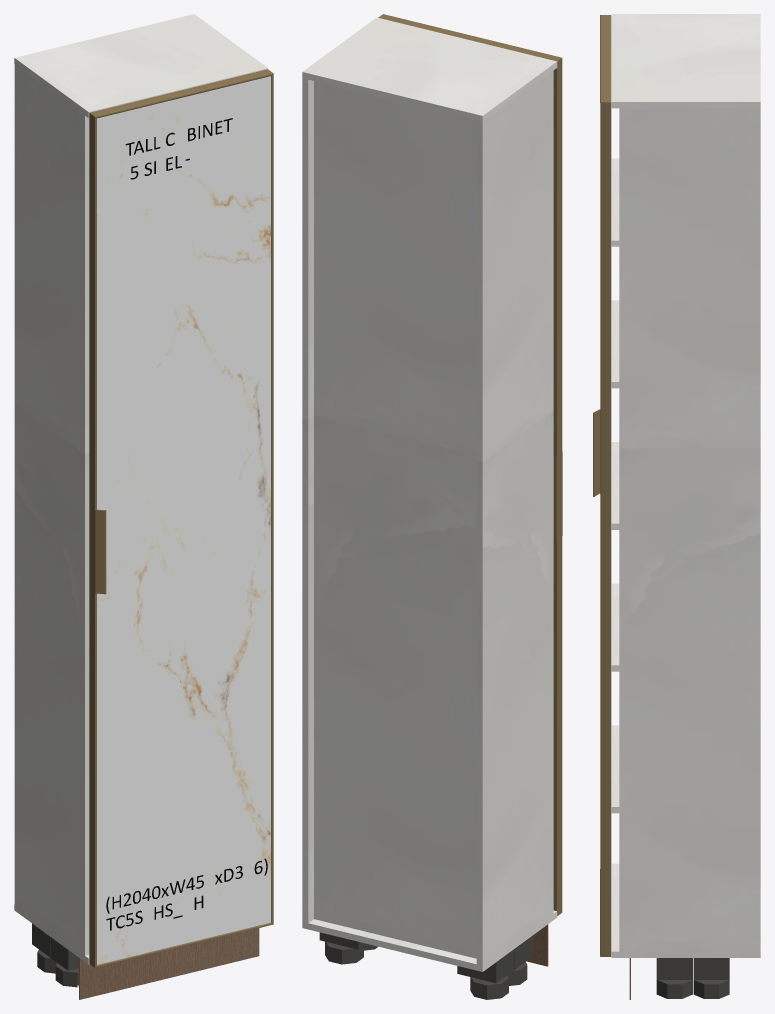
The model's file is TCL-SH-TTS-ST-5SX-RHS-XXX-450-2040-336-15.glb.
3 views of the same model, side by side, from view 1: azimuth 30°, elevation 25°; view 2: azimuth 150°, elevation 25°; view 3: azimuth 270°, elevation 25° (orthographic).
Visible parts, largest first — view 1: Object_node_15, TP_node_0, TP, Extrusion_node_1, Object_node_17, Extrusion_node, Extrusion, ExtrSplGeo, 2D text_node_0, 2D text; view 2: TP_node_7, TP_node_0, TP, TP_node_1, Extrusion_node_1, TP_node, Extrusion, Plate, Foot, Foot_node, Object_node_17; view 3: TP_node_1, TP, Extrusion_node, TP_node, Extrusion, Plate_node, Plate_node_1, TP_node_2, TP_node_3, TP_node_5, TP_node_6, TP_node_4 (+3 smaller).
Part boxes in pixels (x1,y1,x2,y2): Object_node_15: [97, 76, 270, 964]; TP_node_0: [14, 64, 89, 955]; TP: [14, 14, 268, 118]; Extrusion_node_1: [89, 113, 96, 967]; Object_node_17: [79, 928, 259, 999]; Extrusion_node: [271, 73, 273, 924]; Extrusion: [90, 69, 273, 118]; ExtrSplGeo: [95, 509, 106, 594]; 2D text_node_0: [106, 858, 267, 913]; 2D text: [125, 118, 232, 179]; TP_node_7: [314, 81, 476, 958]; TP_node_0: [476, 70, 553, 965]; TP: [302, 17, 557, 122]; TP_node_1: [302, 78, 313, 922]; Extrusion_node_1: [553, 58, 562, 915]; TP_node: [302, 910, 557, 971]; Extrusion: [378, 14, 561, 61]; Plate: [457, 949, 514, 983]; Foot: [470, 975, 508, 999]; Foot_node: [325, 941, 363, 964]; Object_node_17: [526, 924, 548, 966]; TP_node_1: [619, 108, 760, 951]; TP: [611, 14, 760, 108]; Extrusion_node: [600, 102, 611, 956]; TP_node: [611, 863, 760, 957]; Extrusion: [600, 15, 611, 102]; Plate_node: [693, 958, 729, 979]; Plate_node_1: [656, 958, 692, 979]; TP_node_2: [611, 725, 619, 813]; TP_node_3: [611, 583, 619, 671]; TP_node_5: [611, 300, 619, 388]; TP_node_6: [611, 158, 619, 246]; TP_node_4: [611, 442, 619, 529].
Size of what is drawn, in the model's own units: 0.45 by 2.14 by 0.366.
Materials: 7 (3 with a texture image).
